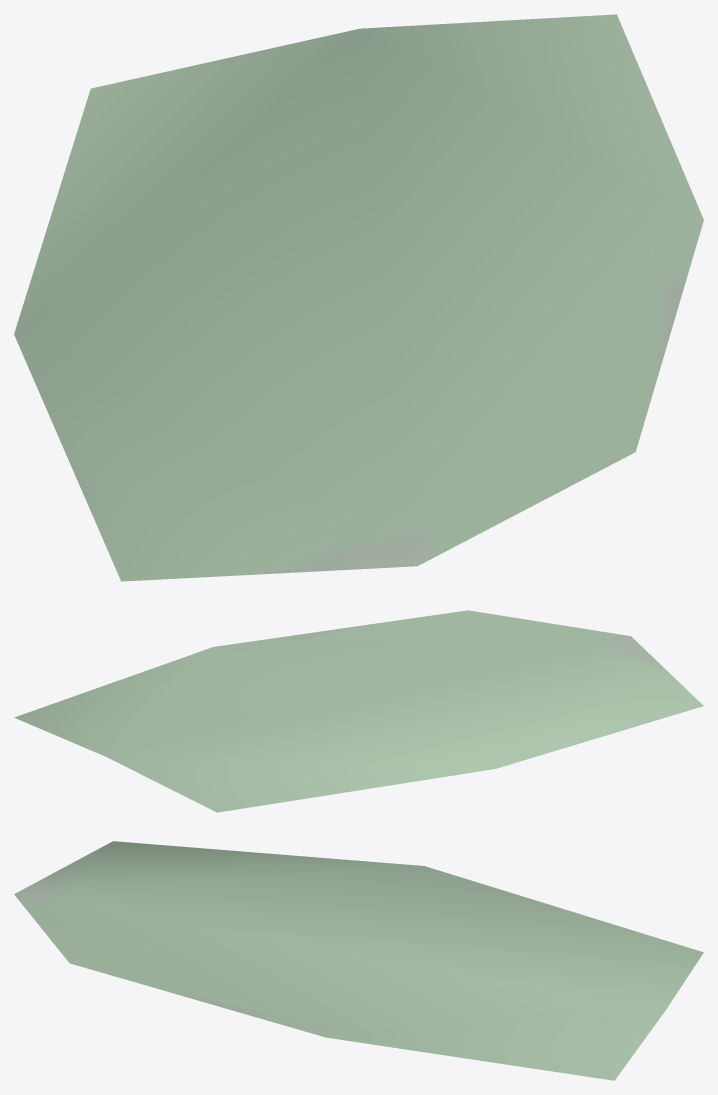
File: TROLLHOLE02_HOLECAP142.fbx
3 renders of one model, top to bottom at view 1: azimuth 30°, elevation 25°; view 2: azimuth 150°, elevation 25°; view 3: azimuth 270°, elevation 25°, orthographic. The views are drawn at different scales.
Parts seen in each view (by area): view 1: TROLLHOLE02_HOLECAP142; view 2: TROLLHOLE02_HOLECAP142; view 3: TROLLHOLE02_HOLECAP142.
Boxes of the visible parts, <box> form: TROLLHOLE02_HOLECAP142: <box>14,14,703,581</box>; TROLLHOLE02_HOLECAP142: <box>14,610,703,812</box>; TROLLHOLE02_HOLECAP142: <box>14,841,703,1080</box>.
Size of the model in its own units: 37281 by 2457 by 39801.
Materials: 1 (1 with a texture image).
